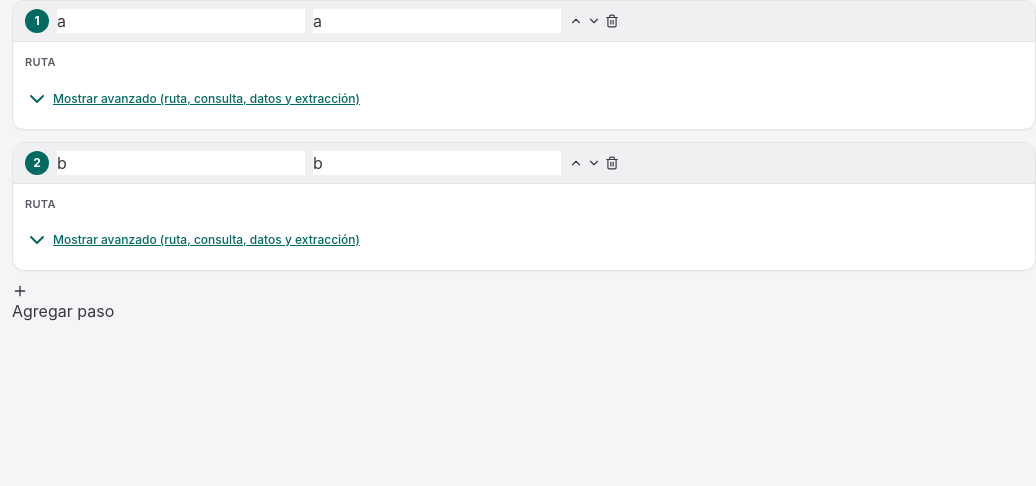
Test: JourneySequenceTable · agregar y quitar › el paso nuevo se numera detrás de los existentes
Click the button "Agregar paso". click: click(63, 303)
box: [12,283,114,323]
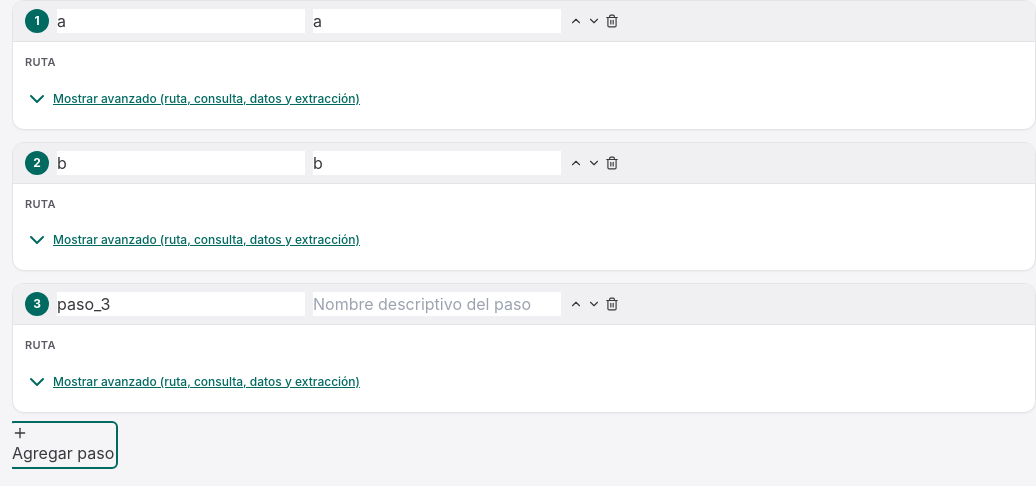
Expected: the number of list items is 3, [12,0,1035,130]; [12,142,1035,271]; [12,283,1035,412]
